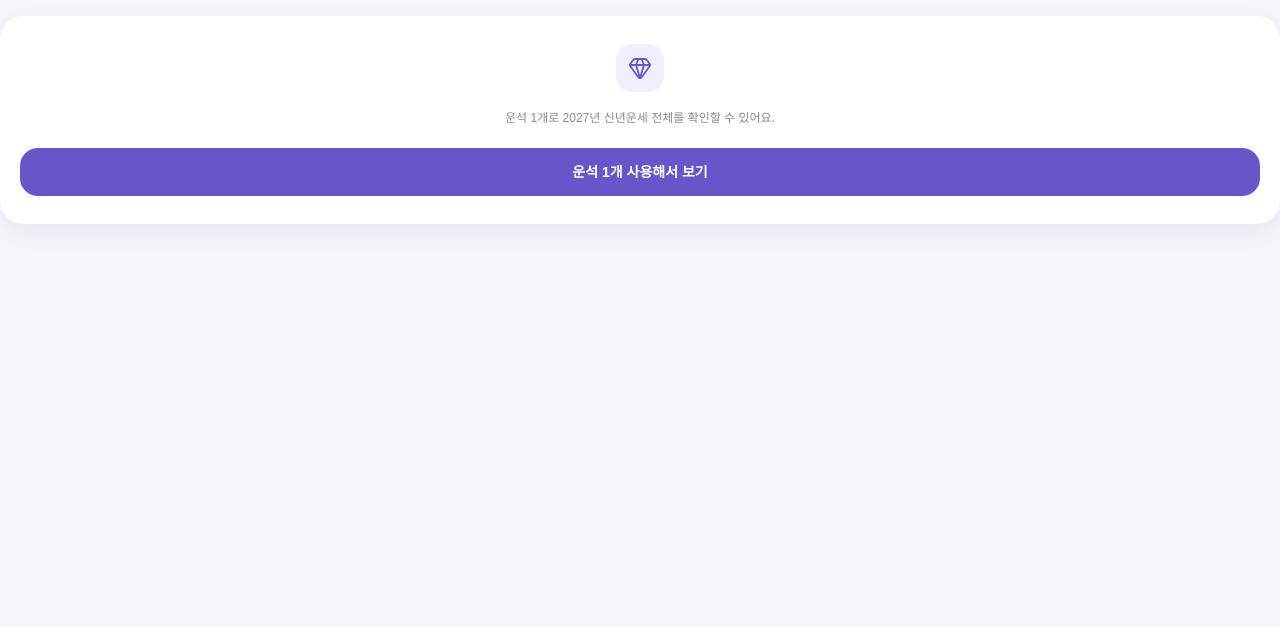
it: YearlyFortuneUnlock › sends only requestId and content and blocks duplicate clicks
This screenshot has width=1280, height=627.
Click the button "운석 1개 사용해서 보기" at [640, 172], box [20,148,1260,196]
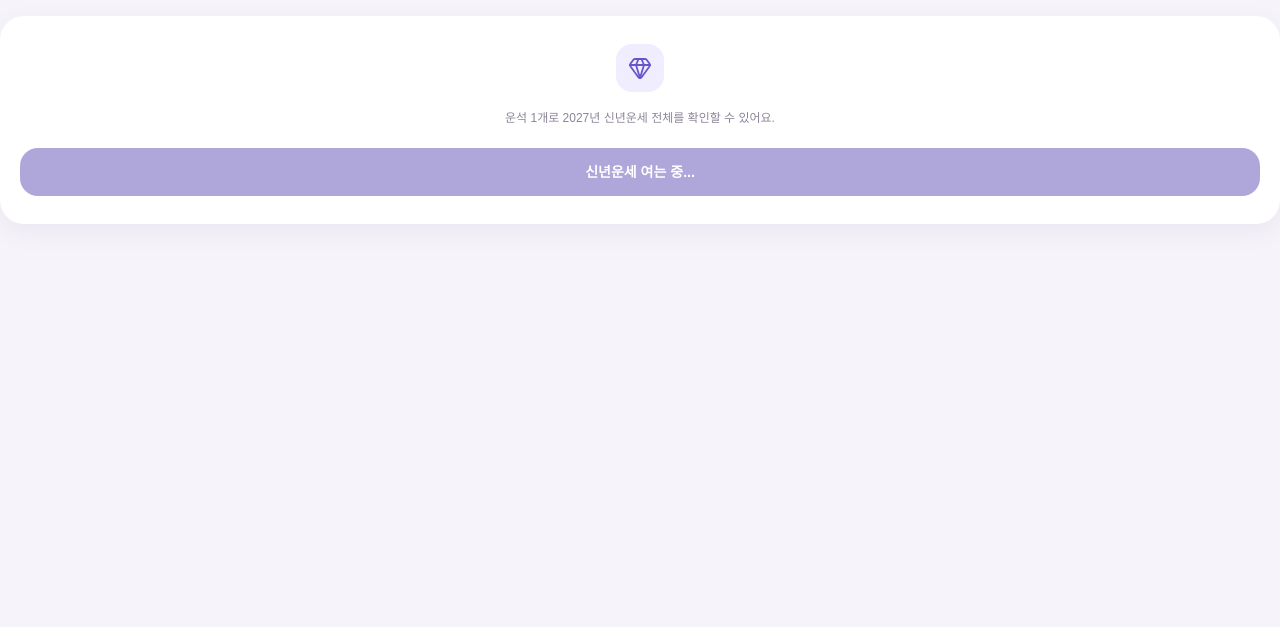
Click the button named "운석 1개 사용해서 보기" at [640, 172], box [20,148,1260,196]
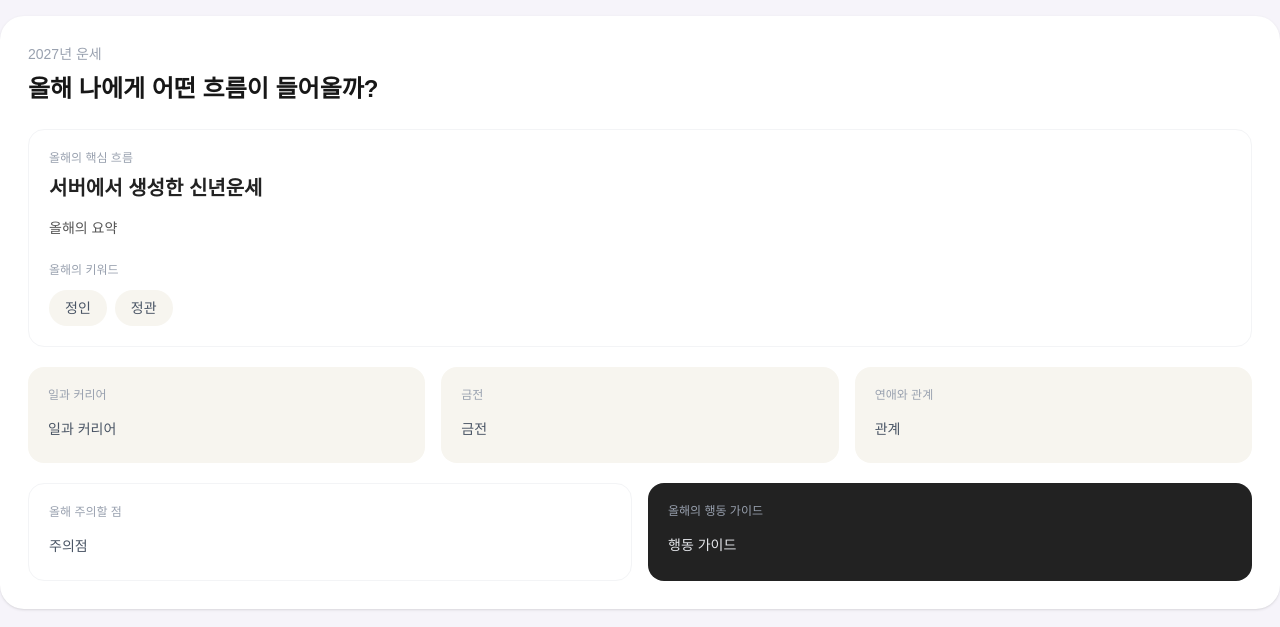
expect the heading "서버에서 생성한 신년운세" is shown: met, box [49,177,262,199]
